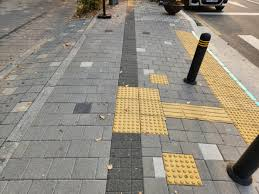guide_blocks: (117, 87, 166, 135), (220, 98, 258, 141), (163, 103, 227, 121), (163, 153, 201, 183), (201, 65, 227, 99), (188, 49, 218, 67), (179, 30, 198, 46), (151, 73, 167, 83)
